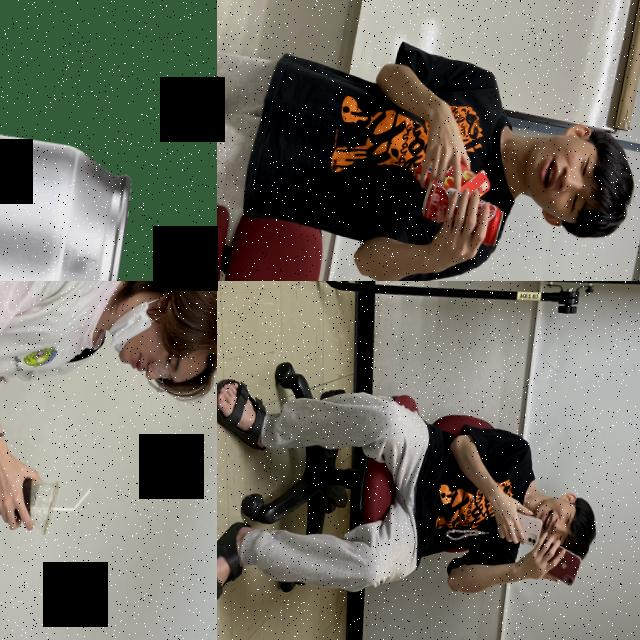can: (0, 93, 143, 281), (415, 178, 507, 248)
cup: (10, 474, 60, 538)
